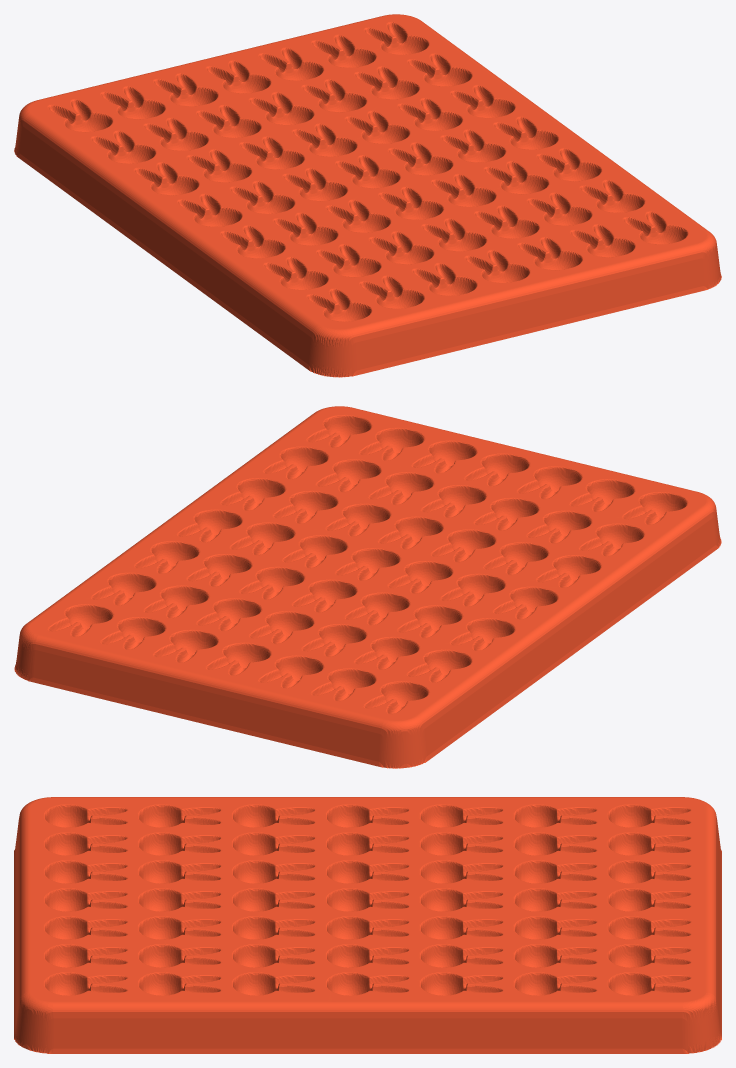
The model's file is mold.glb.
The picture shows the model from 3 angles, top to bottom: view 1: azimuth 30°, elevation 25°; view 2: azimuth 150°, elevation 25°; view 3: azimuth 270°, elevation 25°; orthographic projection. The views are drawn at different scales.
Parts seen in each view (by area): view 1: geometry_0; view 2: geometry_0; view 3: geometry_0.
Part boxes in pixels (box(x1,y1,x2,y2)): geometry_0: box(14, 14, 721, 377); geometry_0: box(14, 406, 721, 768); geometry_0: box(14, 797, 721, 1053).
Size of the model in its own units: 0.1162 by 0.0113 by 0.16.
